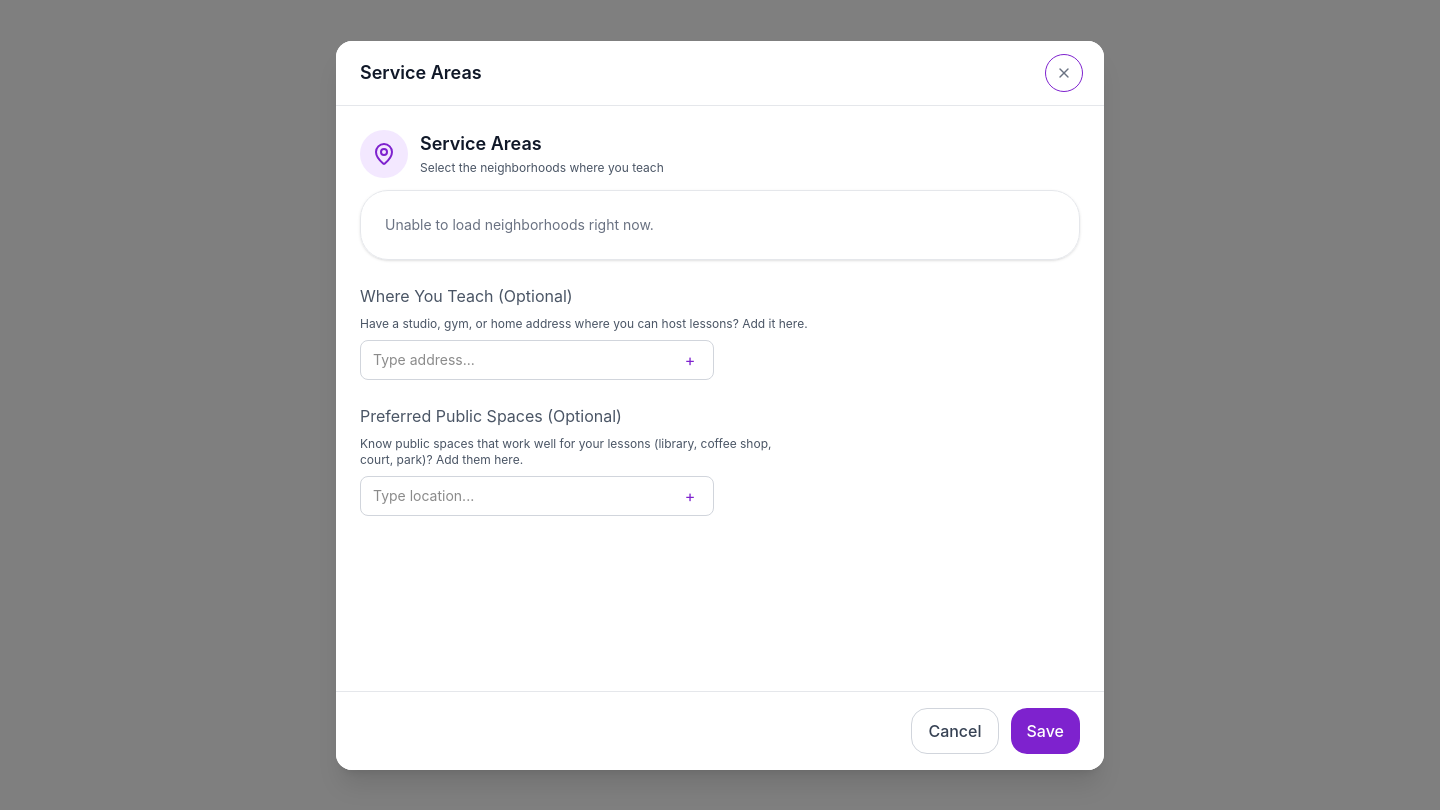
EditProfileModal › areas variant save (handleAreasSave) › handles areas save error
The width and height of the screenshot is (1440, 810).
expect the dialog is shown: met, box top-left (336, 40), bottom-right (1104, 770)
Click the button "Save": click(1045, 730) top-left (1010, 708), bottom-right (1080, 754)
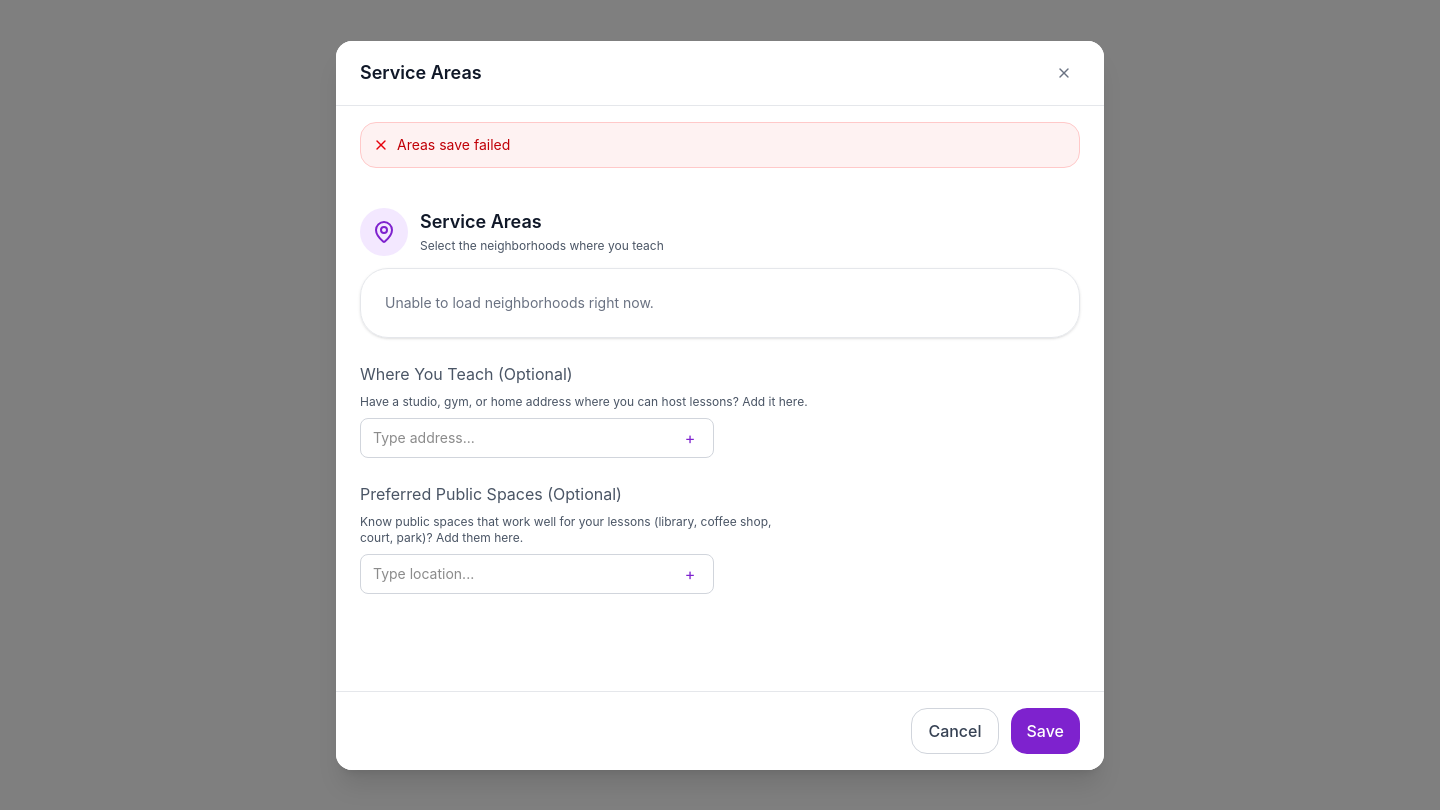
expect the text "Areas save failed" is shown: met, box top-left (397, 134), bottom-right (510, 154)
